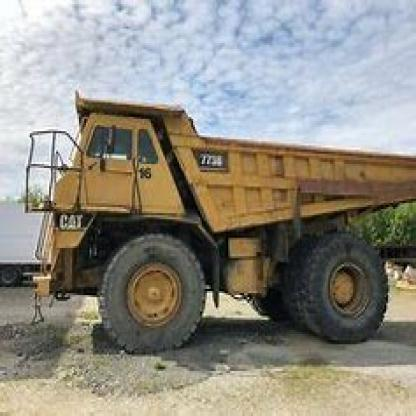dump_truck: (25, 86, 414, 363)
